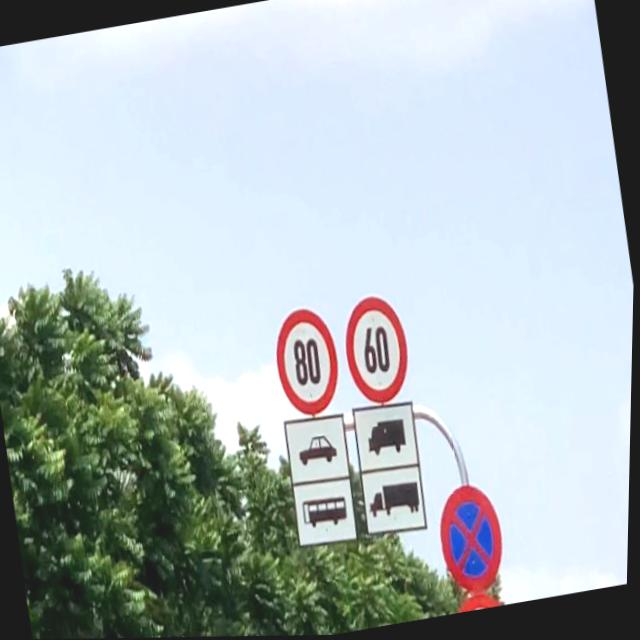Cam dung xe va do xe: (432, 478, 515, 599)
Toc do toi da cho phep: (337, 290, 421, 413), (267, 302, 350, 423)
